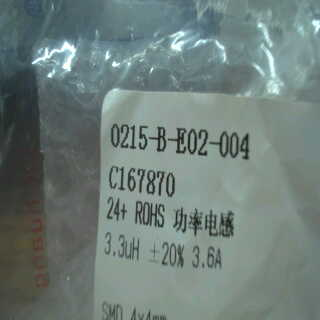3.3uH: (99, 228, 146, 274)
